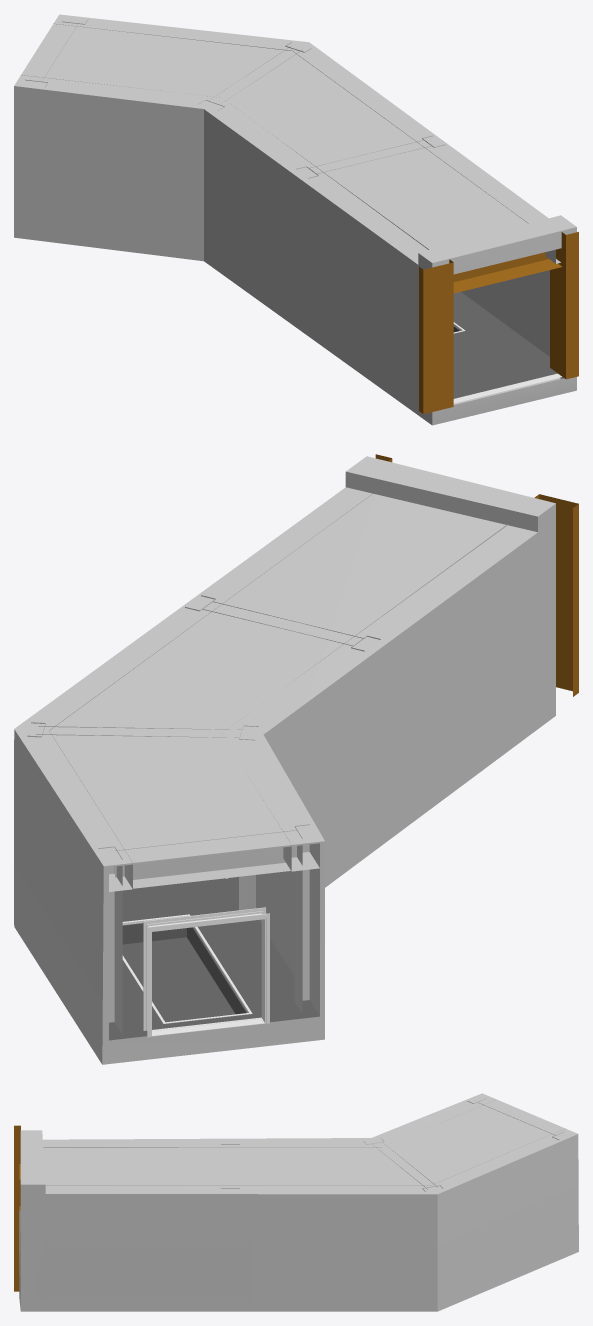
Rendered from SM_H_Building_Tide_Waterway_06_ATLAS.fbx.
3 views of the same model, one above another, from view 1: azimuth 30°, elevation 25°; view 2: azimuth 150°, elevation 25°; view 3: azimuth 270°, elevation 25° (orthographic). The views are drawn at different scales.
Parts seen in each view (by area): view 1: SM_H_Building_Tide_Waterway_06_ATLAS; view 2: SM_H_Building_Tide_Waterway_06_ATLAS; view 3: SM_H_Building_Tide_Waterway_06_ATLAS.
Boxes of the visible parts, <box> form: SM_H_Building_Tide_Waterway_06_ATLAS: <box>14,14,578,425</box>; SM_H_Building_Tide_Waterway_06_ATLAS: <box>14,454,578,1064</box>; SM_H_Building_Tide_Waterway_06_ATLAS: <box>14,1093,578,1311</box>.
Bounding box in the file's own units: 975 × 2308 × 573.
